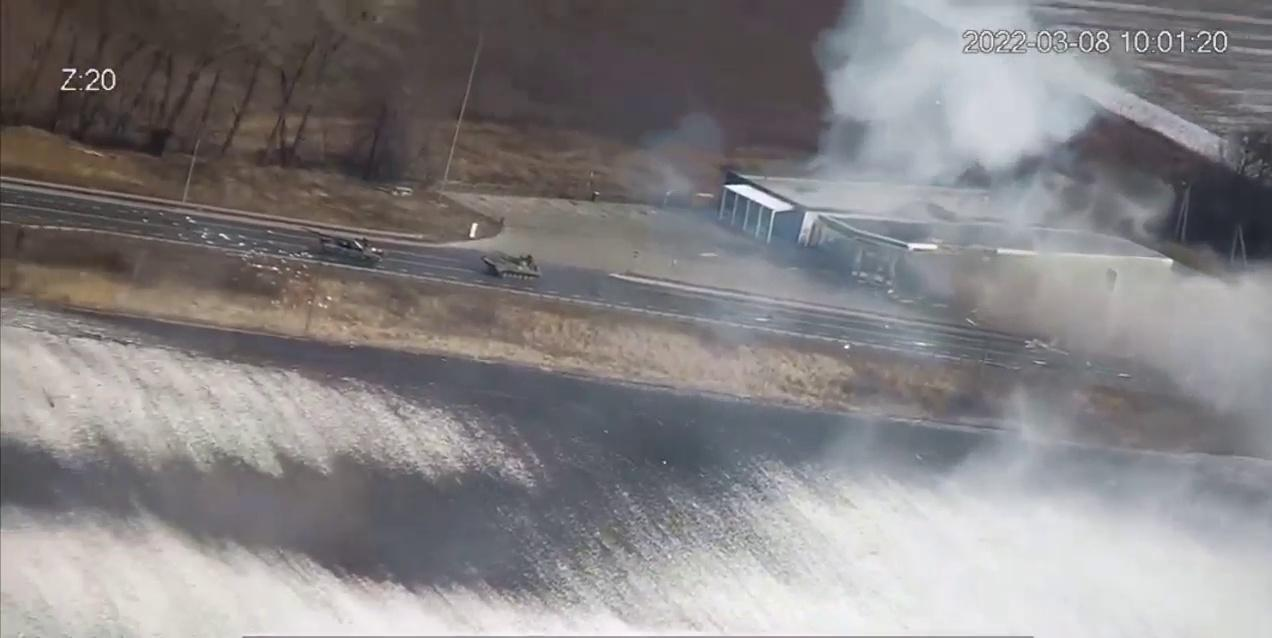tank: (299, 226, 384, 267), (478, 244, 548, 290)
